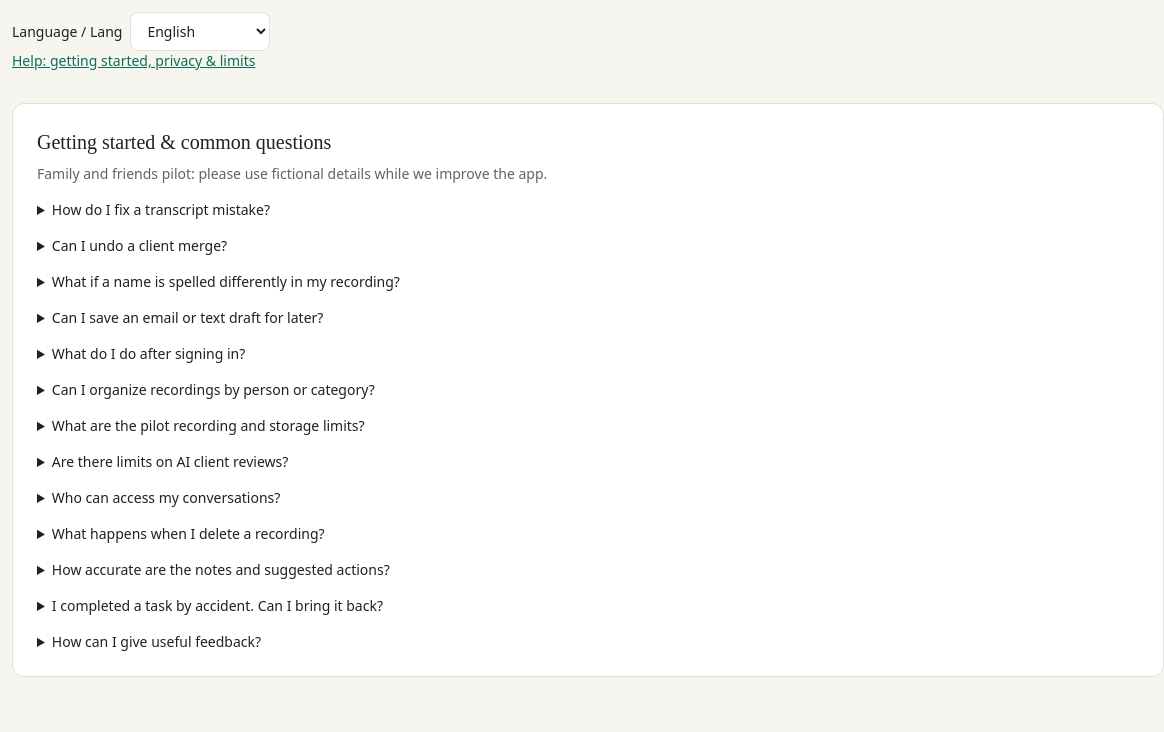
Test: translates every help question and answer without changing numeric limits
The width and height of the screenshot is (1164, 732).
Select "Kreyòl ayisyen" in the dropdown labelled "Language / Lang" at x=200, y=32, box [130,12,270,51]
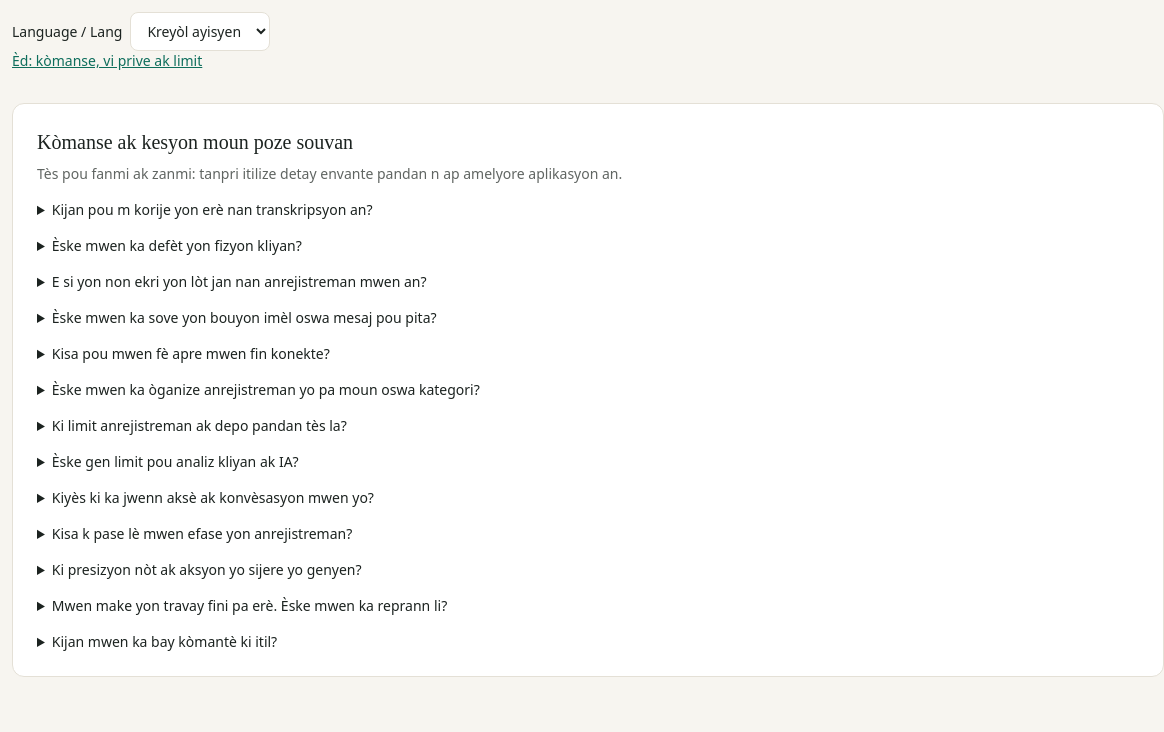
Now the heading "Kijan pou m korije yon erè nan transkripsyon an?" is shown, box [52,200,372,219]
Now the heading "Kòmanse ak kesyon moun poze souvan" is shown, box [37,131,353,153]
Now the text "Tès pou fanmi ak zanmi: tanpri itilize detay envante pandan n ap amelyore aplikasyon an." is shown, box [37,164,622,183]
Select "Français" in the dropdown labelled "Language / Lang" at x=200, y=32, box [130,12,270,51]
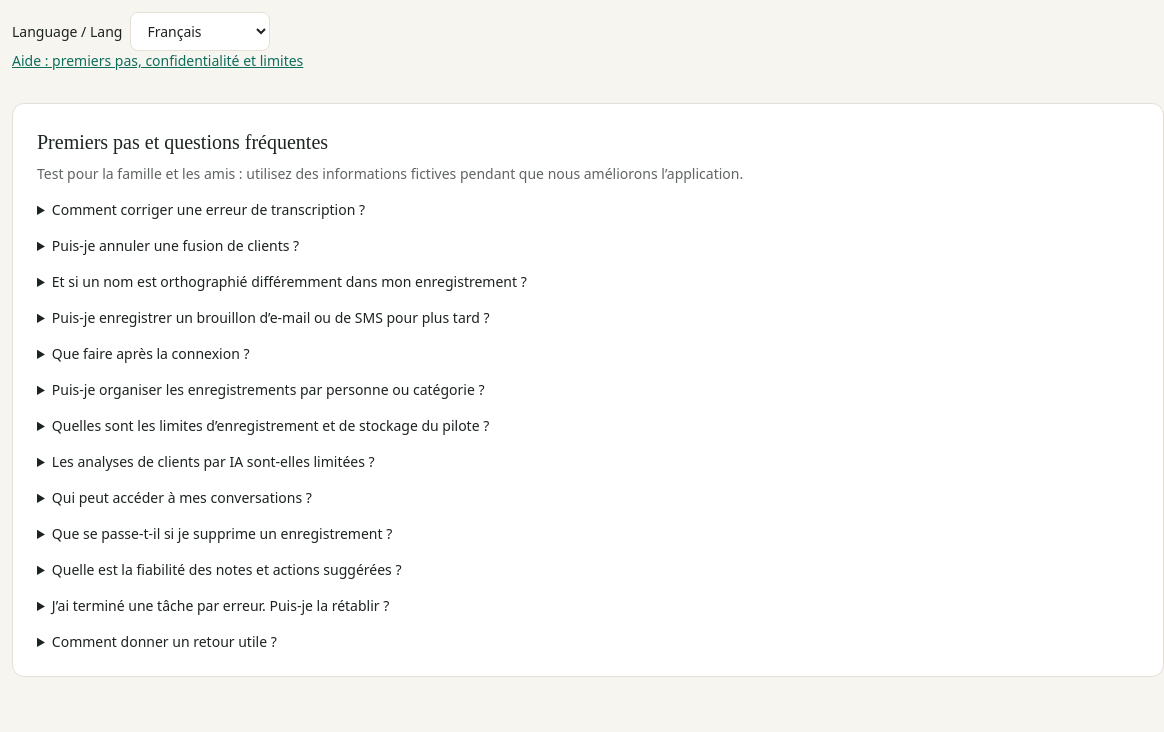
Now the heading "Comment corriger une erreur de transcription ?" is shown, box [52,200,365,219]
Now the heading "Premiers pas et questions fréquentes" is shown, box [37,131,328,153]
Now the text "Test pour la famille et les amis : utilisez des informations fictives pendant que nous améliorons l’application." is shown, box [37,164,743,183]
Select "Español" in the dropdown labelled "Language / Lang" at x=200, y=32, box [130,12,270,51]
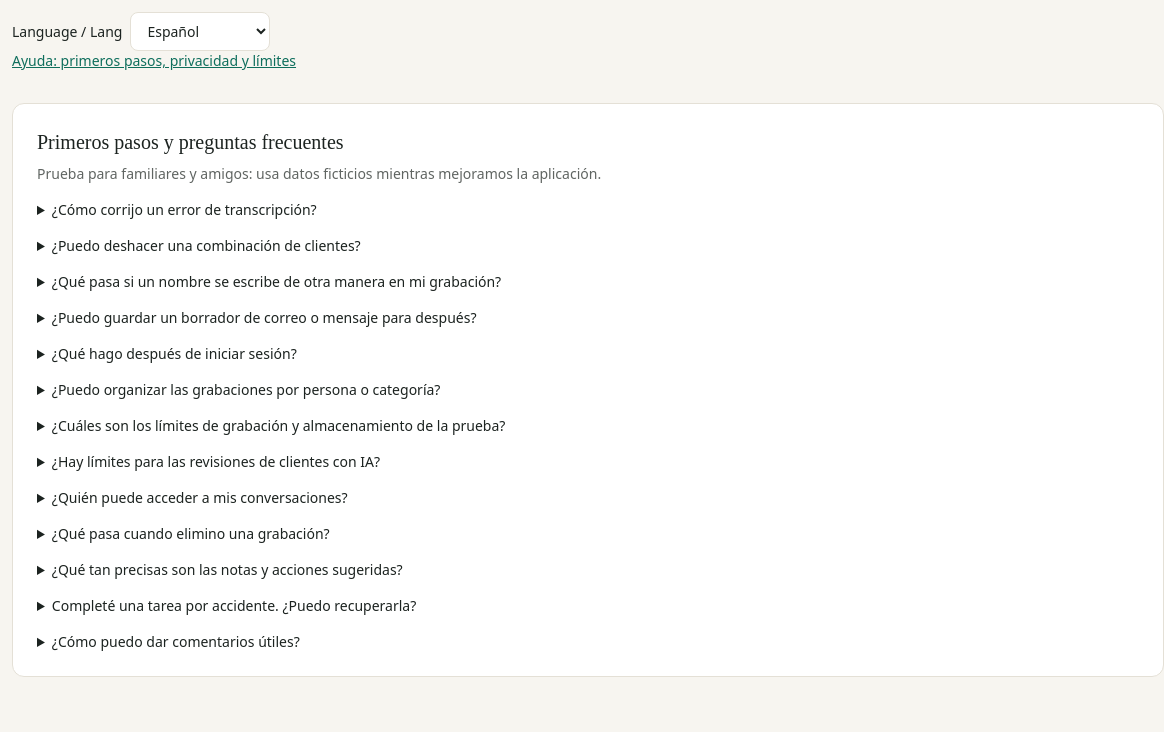
Now the heading "¿Cómo corrijo un error de transcripción?" is shown, box [52,200,317,219]
Now the heading "Primeros pasos y preguntas frecuentes" is shown, box [37,131,344,153]
Now the text "Prueba para familiares y amigos: usa datos ficticios mientras mejoramos la aplicación." is shown, box [37,164,601,183]
